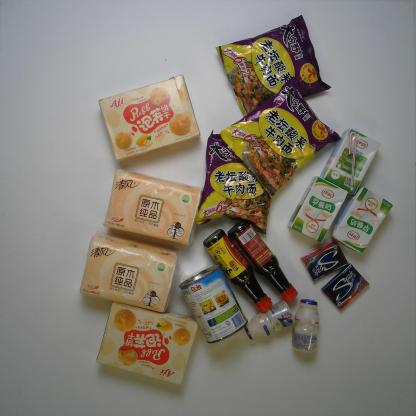Canned Food: (175, 260, 250, 346)
Dessert: (92, 296, 202, 391), (96, 70, 204, 164)
Gum: (294, 237, 353, 284), (318, 262, 372, 313)
Instant Noodles: (218, 73, 344, 199), (211, 11, 335, 122), (192, 126, 275, 238)
Milk: (284, 174, 350, 247), (330, 184, 394, 256), (318, 126, 383, 196), (242, 299, 297, 345), (290, 297, 324, 356)
Seasoner: (226, 216, 300, 306), (201, 228, 274, 316)
Tissue: (75, 230, 182, 319), (100, 166, 204, 252)
